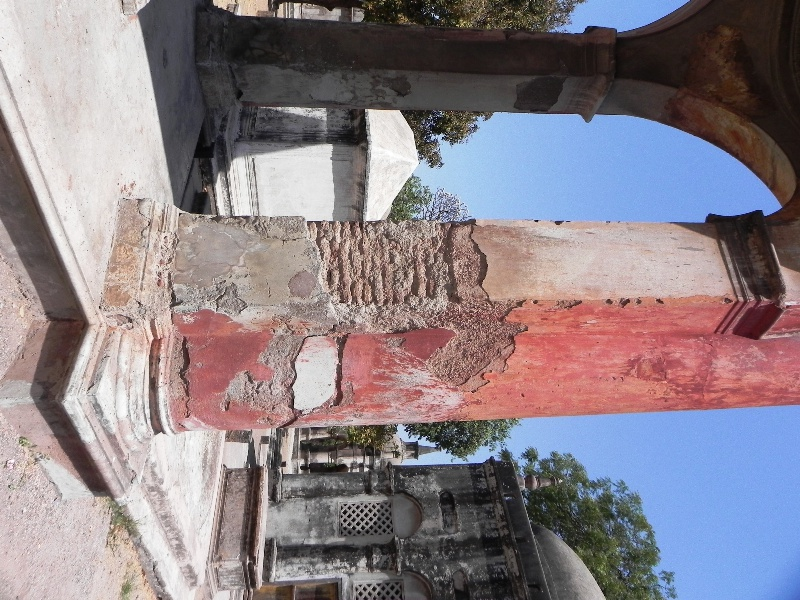Exposed Bricks: (301, 219, 460, 303), (418, 302, 533, 390)
Spalling: (160, 273, 195, 409), (375, 74, 411, 95)
